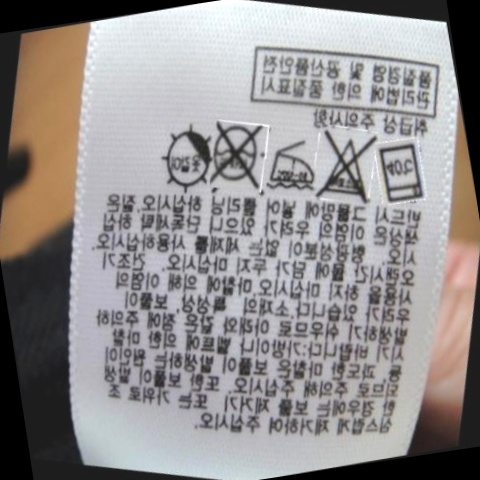40C: (374, 137, 432, 208)
DN_dry_clean: (209, 111, 265, 192)
iron_low: (264, 137, 319, 197)
line_dry_in_shade: (154, 120, 215, 194)
non_chlorine_bleach: (311, 121, 380, 208)
